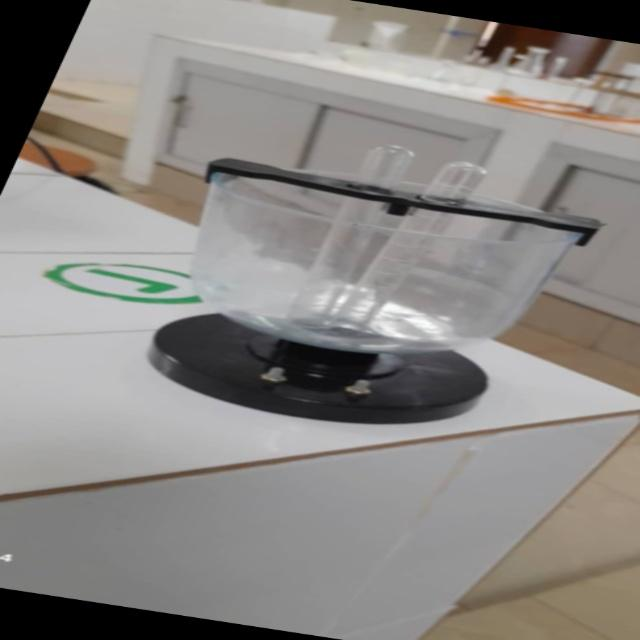Electrolyzer: (60, 111, 638, 454)
